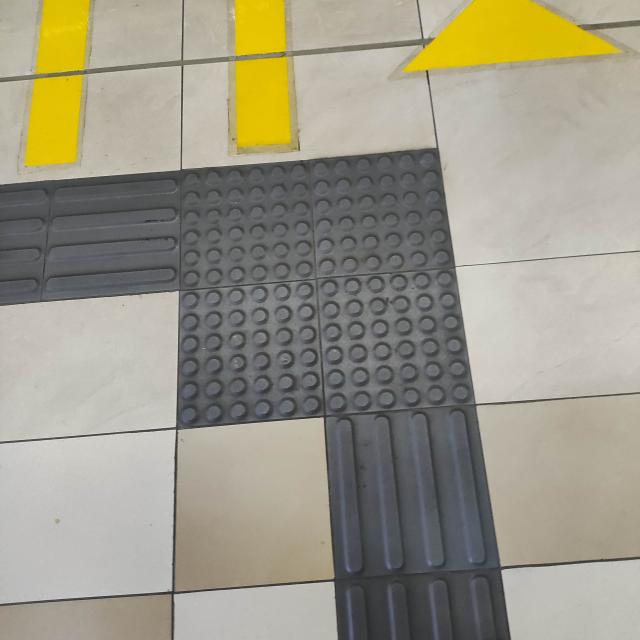kiri: (33, 108, 589, 488)
